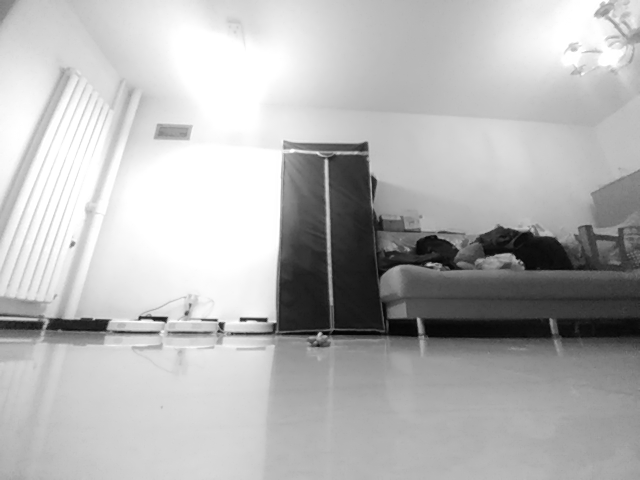pet feces: (307, 331, 333, 348)
